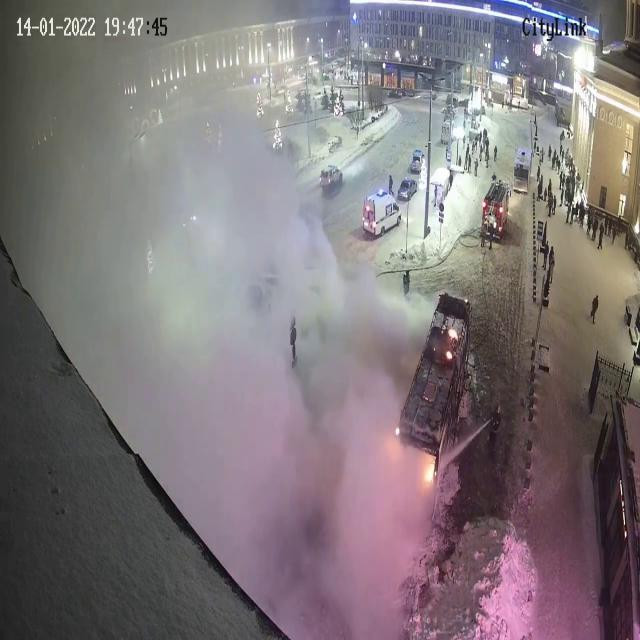Fire: (422, 451, 437, 493)
Smoke: (24, 44, 424, 608)
